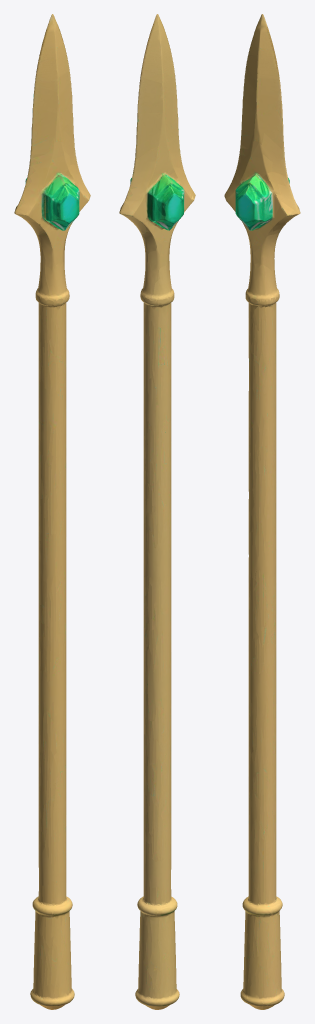
The model's file is etspear3d.glb.
The picture shows the model from 3 angles, left to right: view 1: azimuth 30°, elevation 25°; view 2: azimuth 210°, elevation 25°; view 3: azimuth 330°, elevation 25°; orthographic projection.
Size of the model in its own units: 0.1504 by 1.9 by 0.1187.
1 material, 1 textured.
